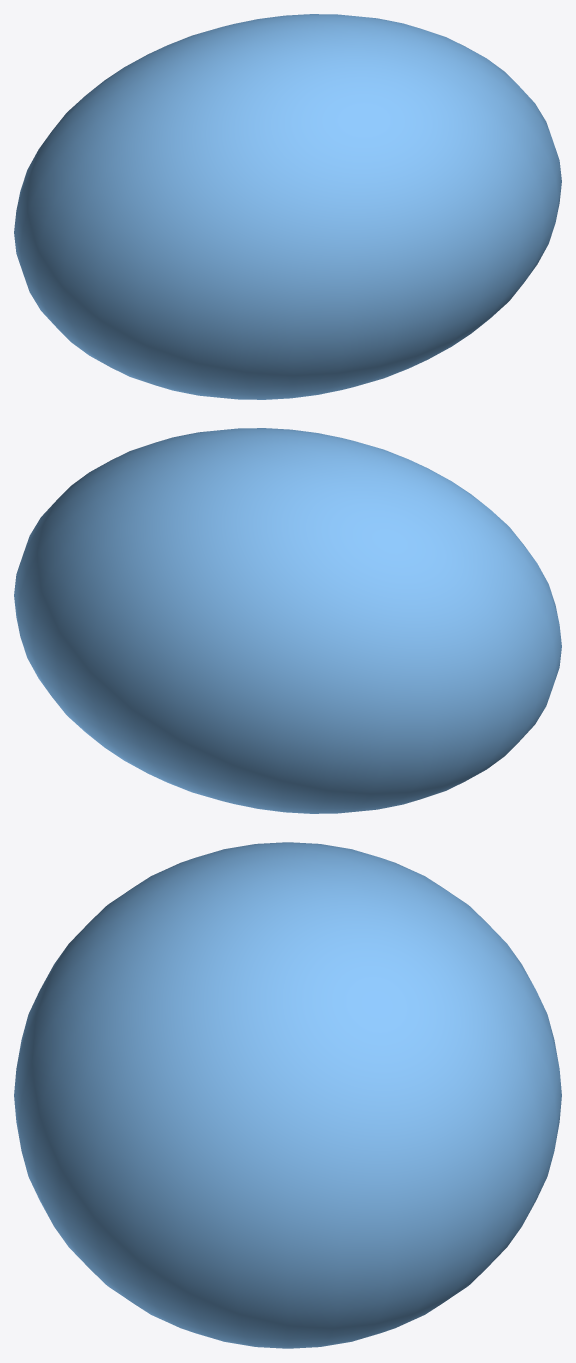
Rendered from vacuole.glb.
3 renders of one model, top to bottom at view 1: azimuth 30°, elevation 25°; view 2: azimuth 150°, elevation 25°; view 3: azimuth 270°, elevation 25°, orthographic. The views are drawn at different scales.
Parts seen in each view (by area): view 1: Central Vacuole; view 2: Central Vacuole; view 3: Central Vacuole.
Part boxes in pixels (box(x1,y1,x2,y2)): Central Vacuole: box(14, 14, 561, 399); Central Vacuole: box(14, 428, 561, 813); Central Vacuole: box(14, 842, 561, 1348).
Bounding box in the file's own units: 2.3 × 1.44 × 1.76.
